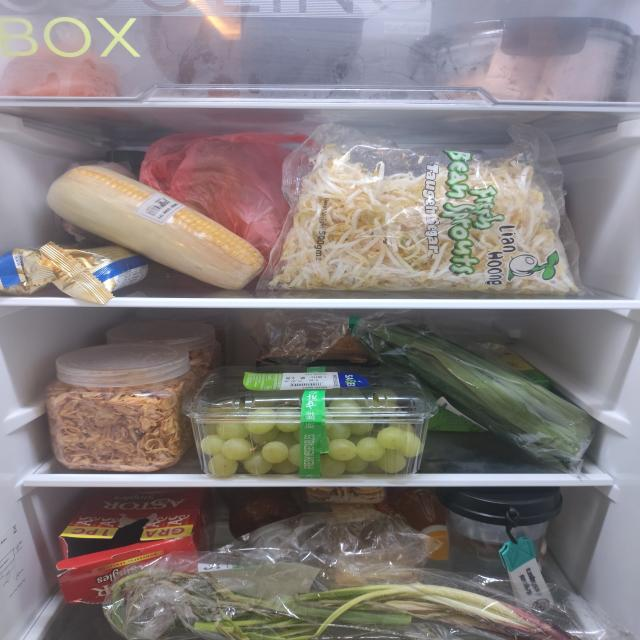bean_sprouts: (268, 142, 579, 295)
corn: (45, 164, 267, 291)
grape: (201, 386, 424, 477)
leafy_greens: (361, 319, 599, 467)
spring_onion: (103, 567, 583, 640)
